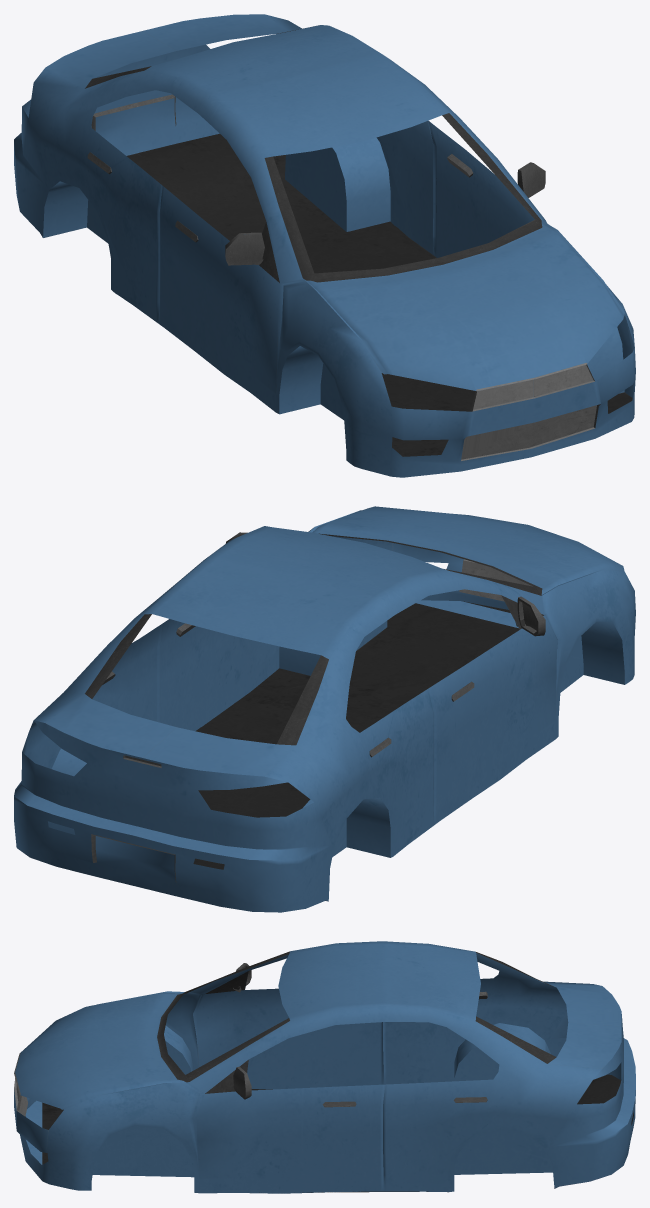
File: sedan_car_body_sedan_car_body_1_0.glb
The picture shows the model from 3 angles, top to bottom: view 1: azimuth 30°, elevation 25°; view 2: azimuth 150°, elevation 25°; view 3: azimuth 270°, elevation 25°; orthographic projection. The views are drawn at different scales.
Parts seen in each view (by area): view 1: sedan_car_body_sedan_car_body_1_0; view 2: sedan_car_body_sedan_car_body_1_0; view 3: sedan_car_body_sedan_car_body_1_0.
Boxes of the visible parts, x1=… form: sedan_car_body_sedan_car_body_1_0: x1=14, y1=14, x2=635, y2=477; sedan_car_body_sedan_car_body_1_0: x1=14, y1=506, x2=635, y2=912; sedan_car_body_sedan_car_body_1_0: x1=14, y1=941, x2=635, y2=1193.
Bounding box in the file's own units: 2.25 × 1.46 × 4.91.
1 material, 1 textured.
